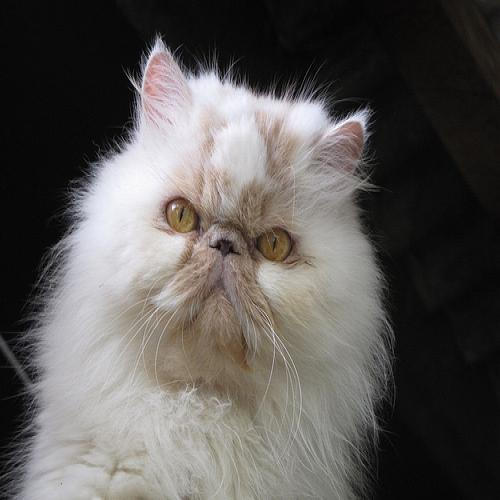persian: (107, 34, 378, 381)
